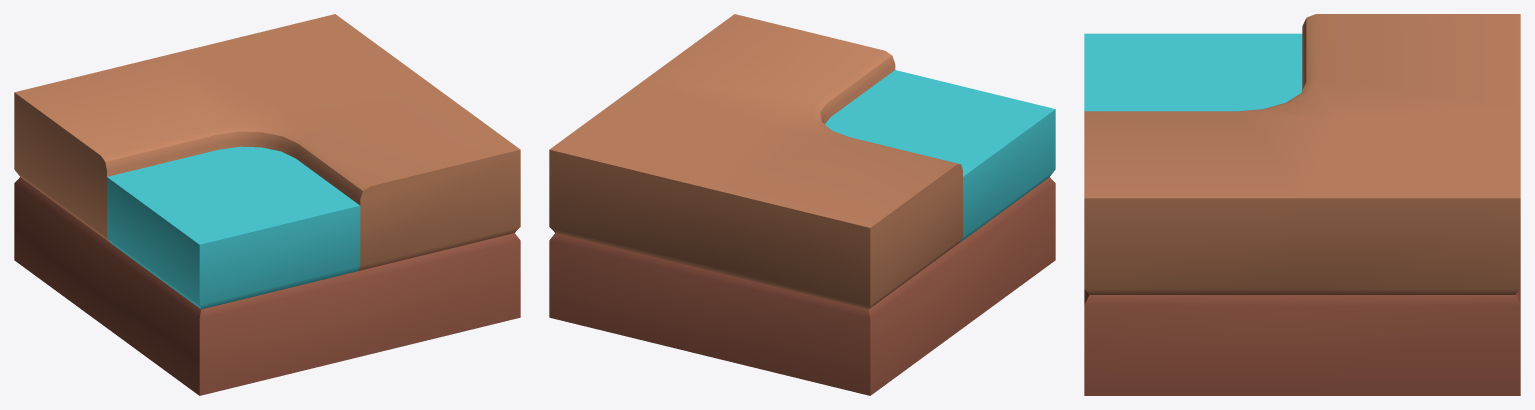
The model's file is square_rock_waterInnerCorner.glb.
3 views of the same model, side by side, from view 1: azimuth 30°, elevation 25°; view 2: azimuth 150°, elevation 25°; view 3: azimuth 270°, elevation 25° (orthographic). The views are drawn at different scales.
Visible parts, largest first — view 1: square_rock_waterInnerCorner; view 2: square_rock_waterInnerCorner; view 3: square_rock_waterInnerCorner.
Part boxes in pixels (x1=…): square_rock_waterInnerCorner: x1=14, y1=14, x2=520, y2=395; square_rock_waterInnerCorner: x1=549, y1=14, x2=1055, y2=395; square_rock_waterInnerCorner: x1=1084, y1=14, x2=1520, y2=395.
Bounding box in the file's own units: 2 × 1 × 2.
